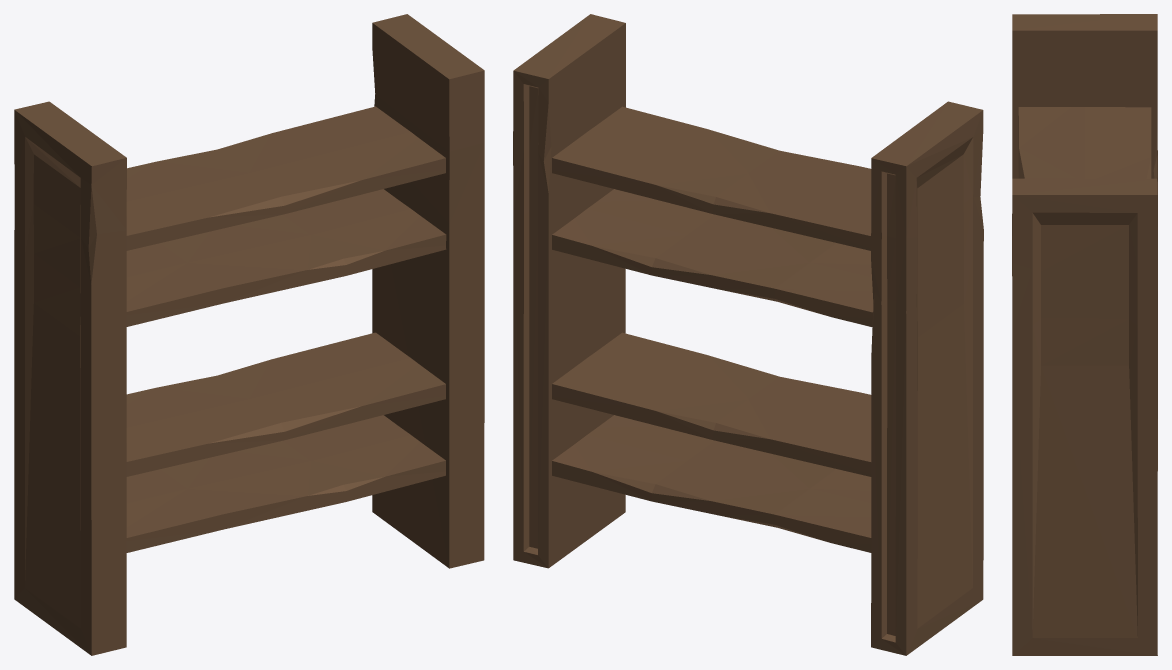
File: SFHW_Shelving_008.fbx
3 renders of one model, left to right at view 1: azimuth 30°, elevation 25°; view 2: azimuth 150°, elevation 25°; view 3: azimuth 270°, elevation 25°, orthographic. The views are drawn at different scales.
Visible parts, largest first — view 1: SFHW_Shelving_008; view 2: SFHW_Shelving_008; view 3: SFHW_Shelving_008.
Boxes of the visible parts, x1=… form: SFHW_Shelving_008: x1=14, y1=14, x2=484, y2=655; SFHW_Shelving_008: x1=513, y1=14, x2=983, y2=655; SFHW_Shelving_008: x1=1012, y1=14, x2=1157, y2=655.
Bounding box in the file's own units: 200 × 238 × 68.3.
